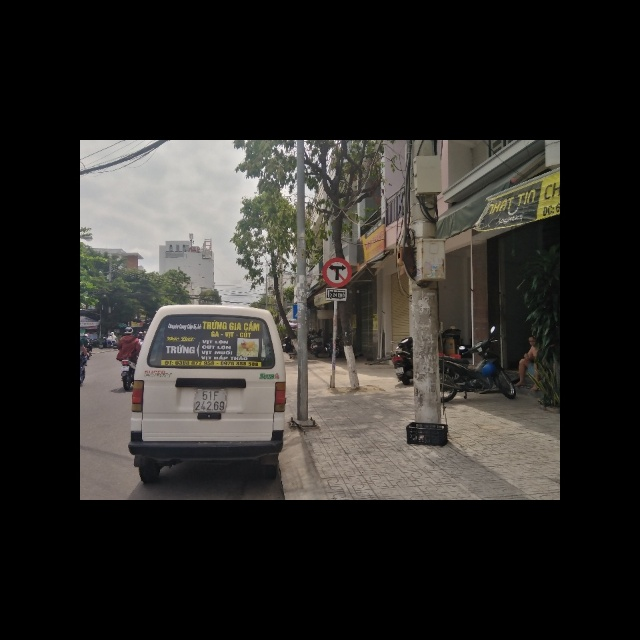Cấm rẽ trái và rẽ phải: (322, 256, 352, 287)
